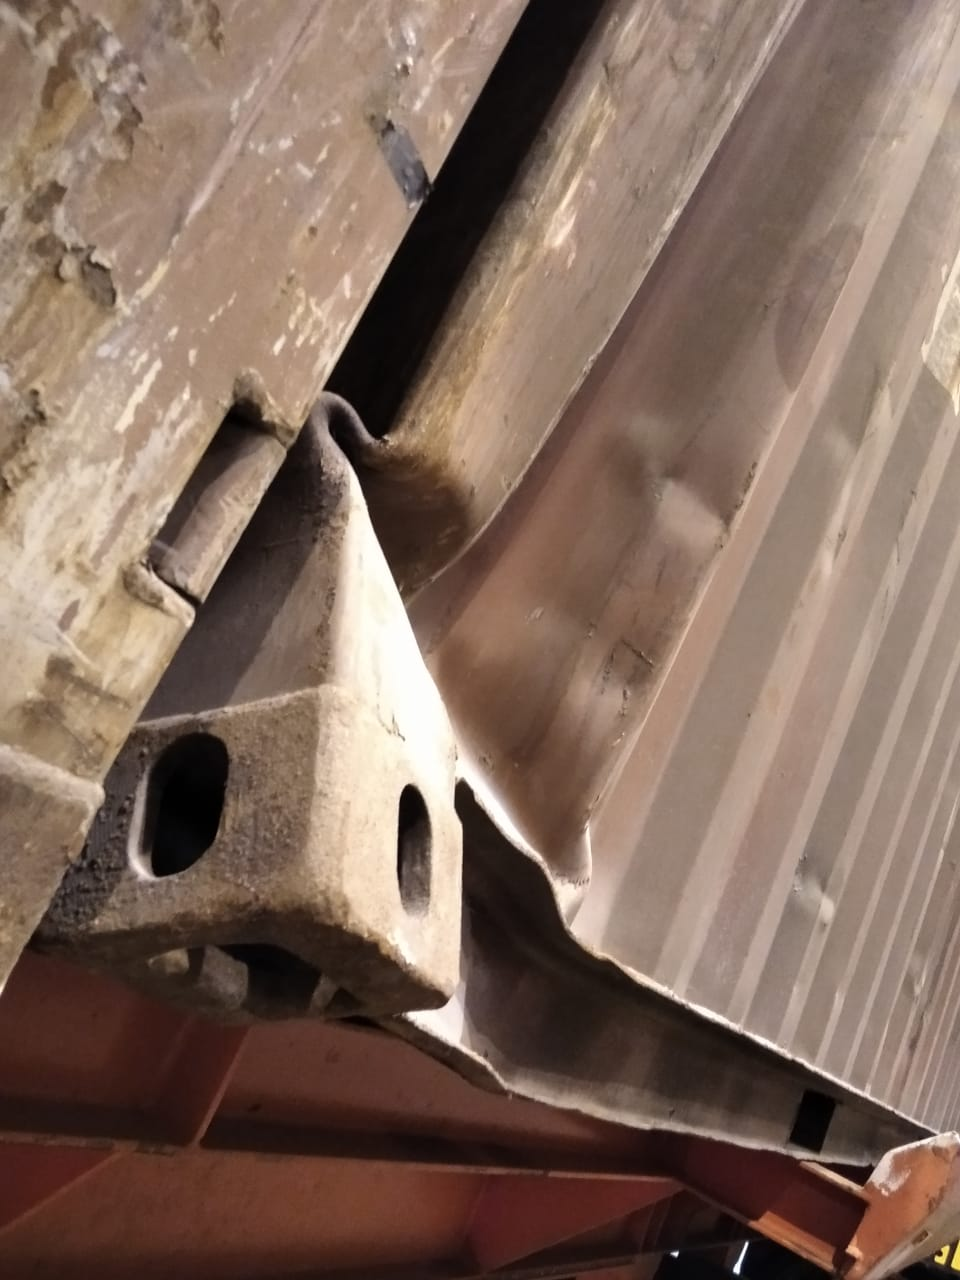moderate: (214, 379, 796, 946)
